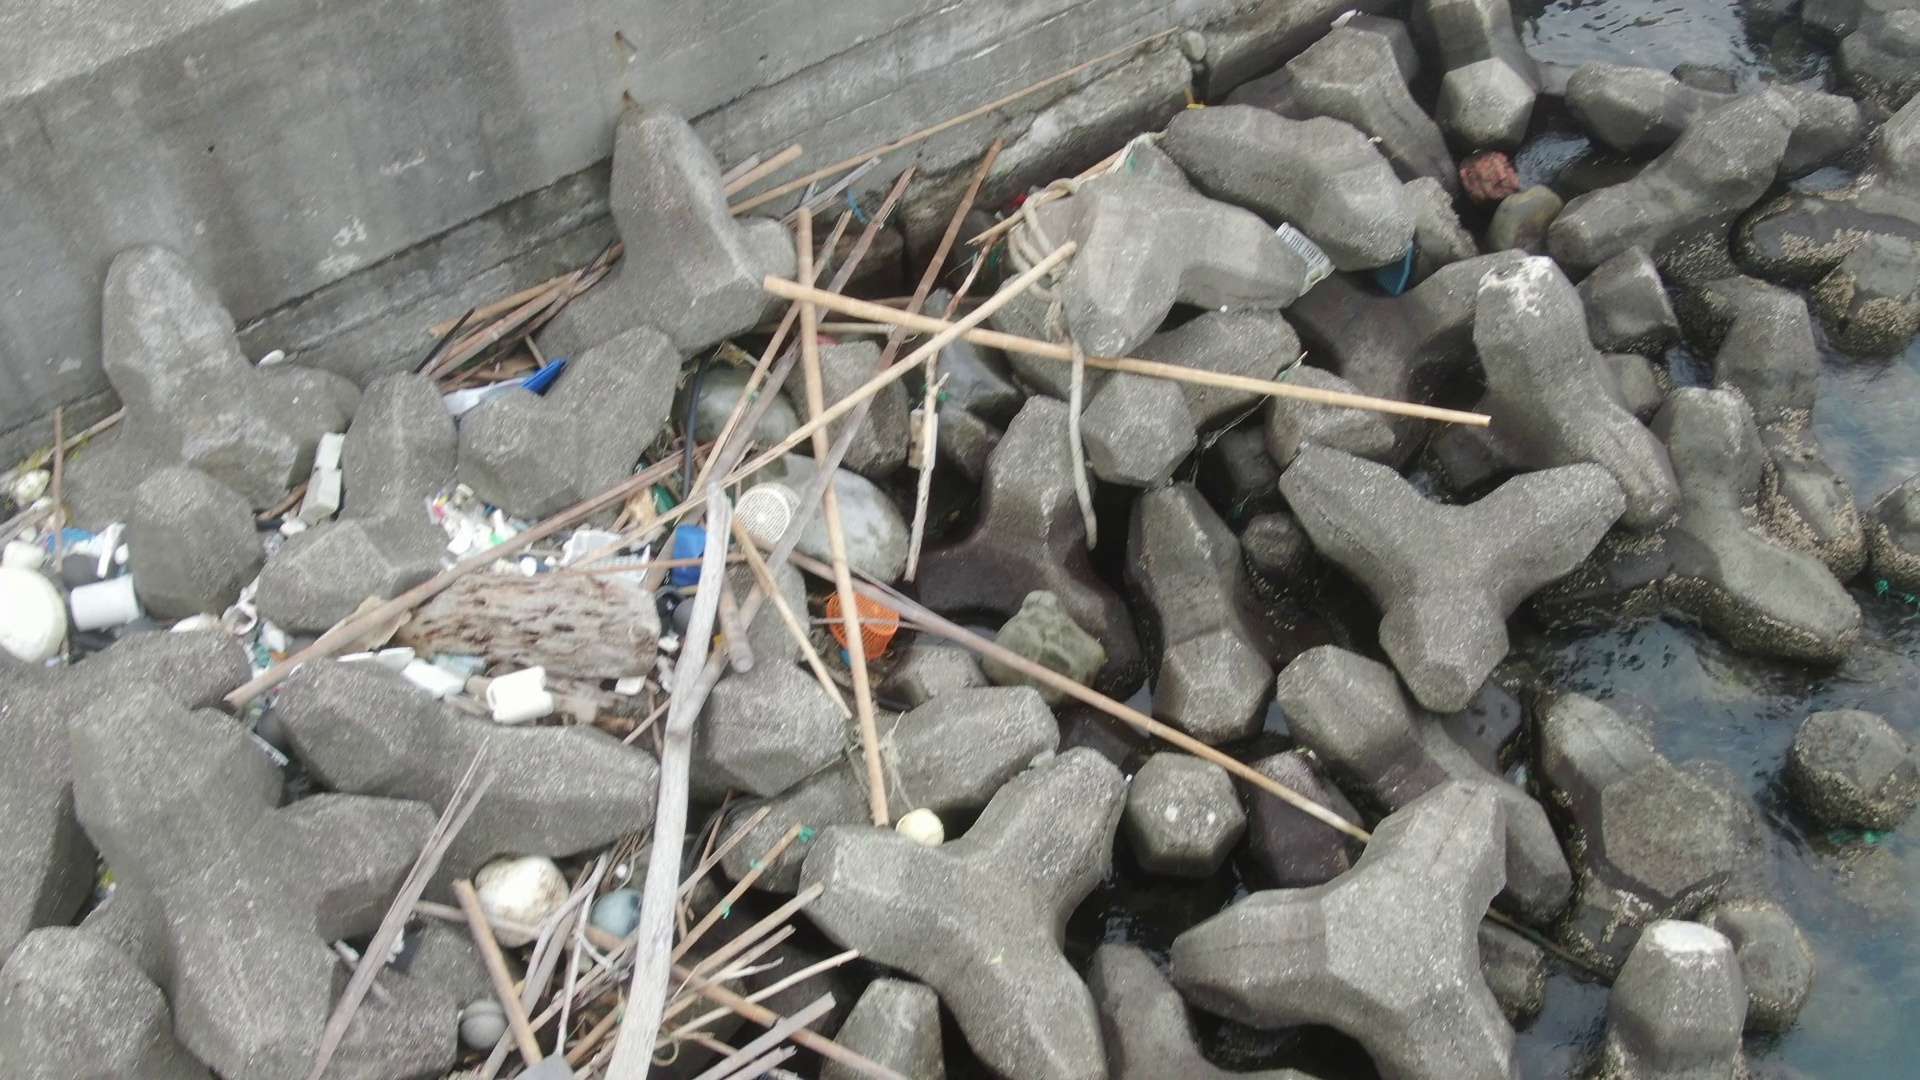garbage: (433, 477, 811, 583), (1, 463, 145, 665), (339, 626, 587, 727), (164, 576, 302, 674), (433, 351, 580, 425), (822, 576, 913, 669), (1266, 215, 1352, 302), (293, 425, 359, 533), (1362, 229, 1432, 315), (579, 886, 659, 949), (450, 985, 521, 1052), (889, 802, 949, 858)
